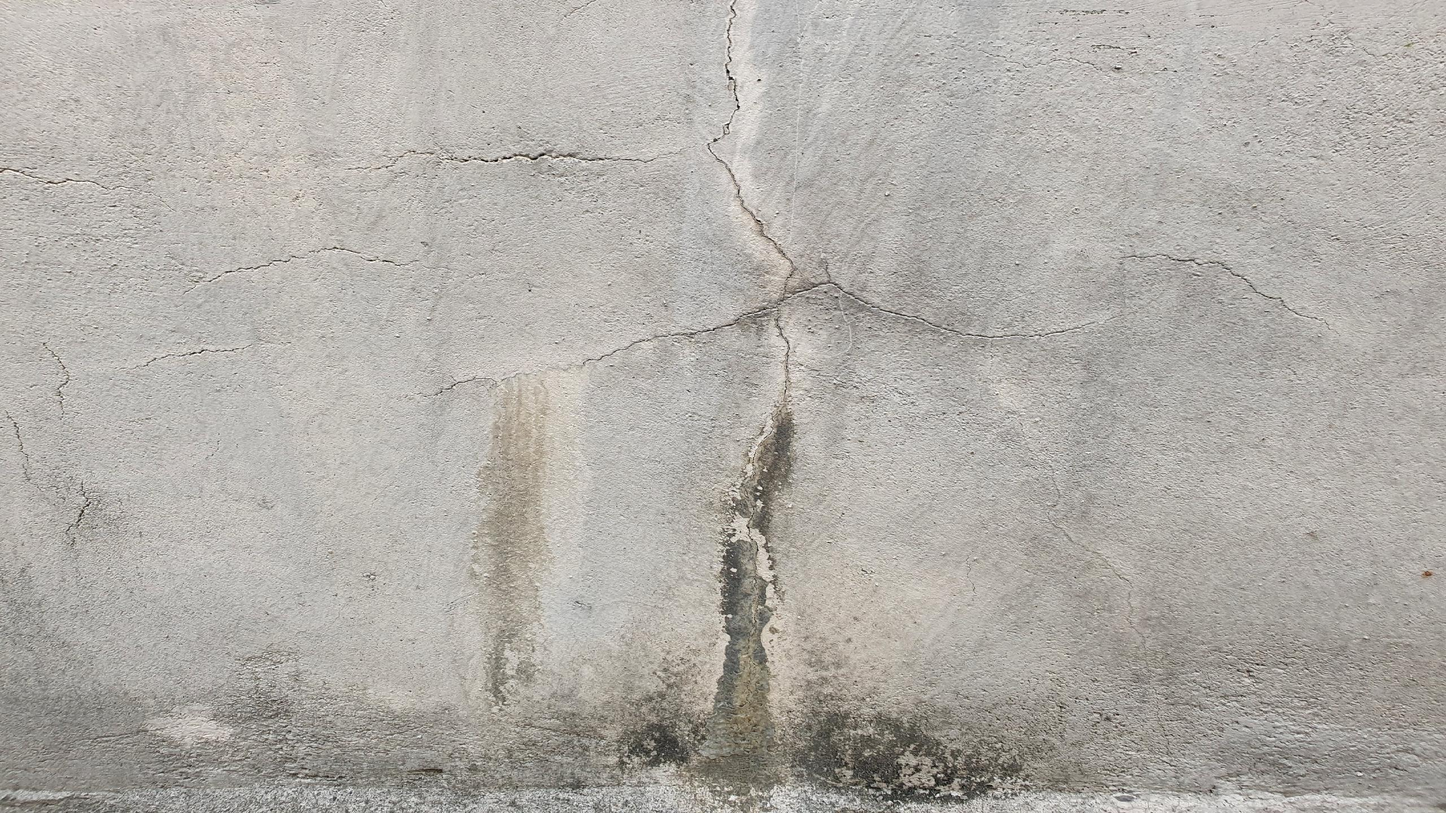crack: (587, 3, 1093, 402), (373, 148, 643, 173)
